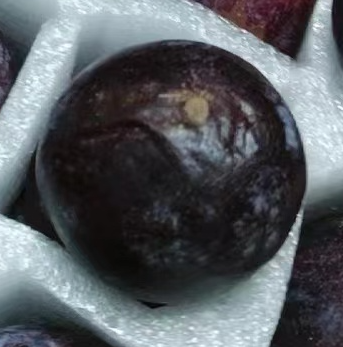plum_B: (35, 39, 307, 307)
